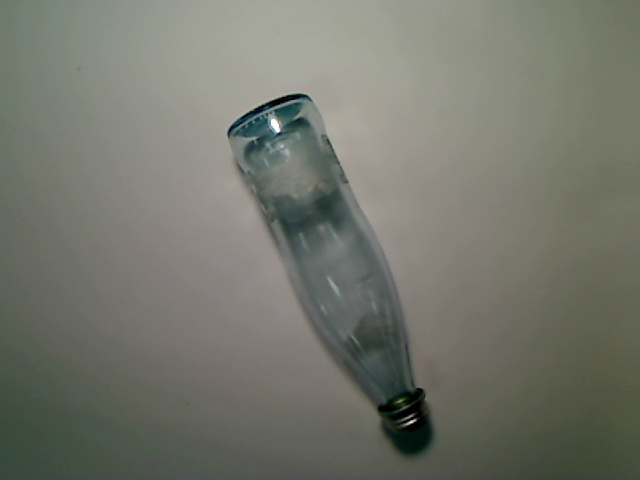bottle: (227, 93, 431, 437)
